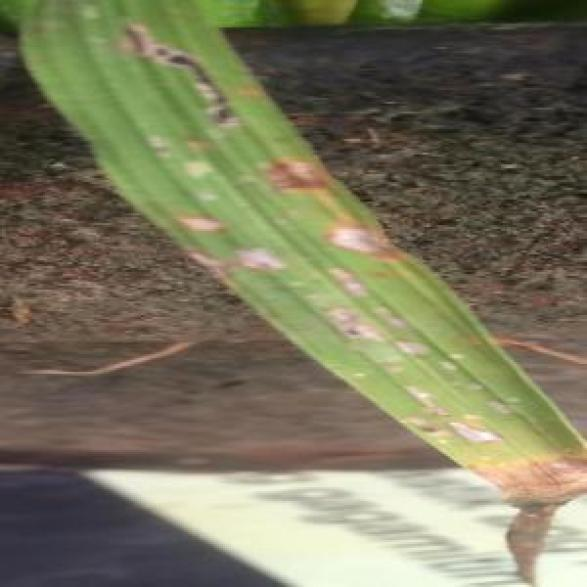Leaf_smut: (244, 133, 376, 211), (150, 182, 244, 256), (313, 204, 409, 270), (235, 239, 305, 299)
